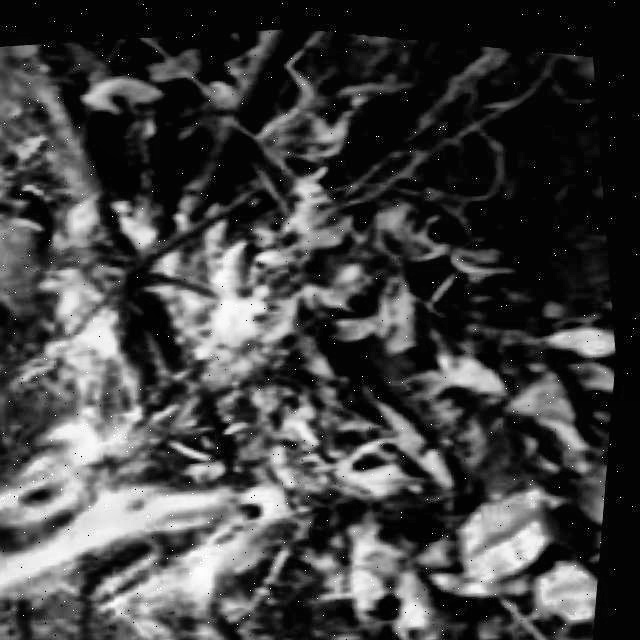Fire: (0, 143, 410, 640)
